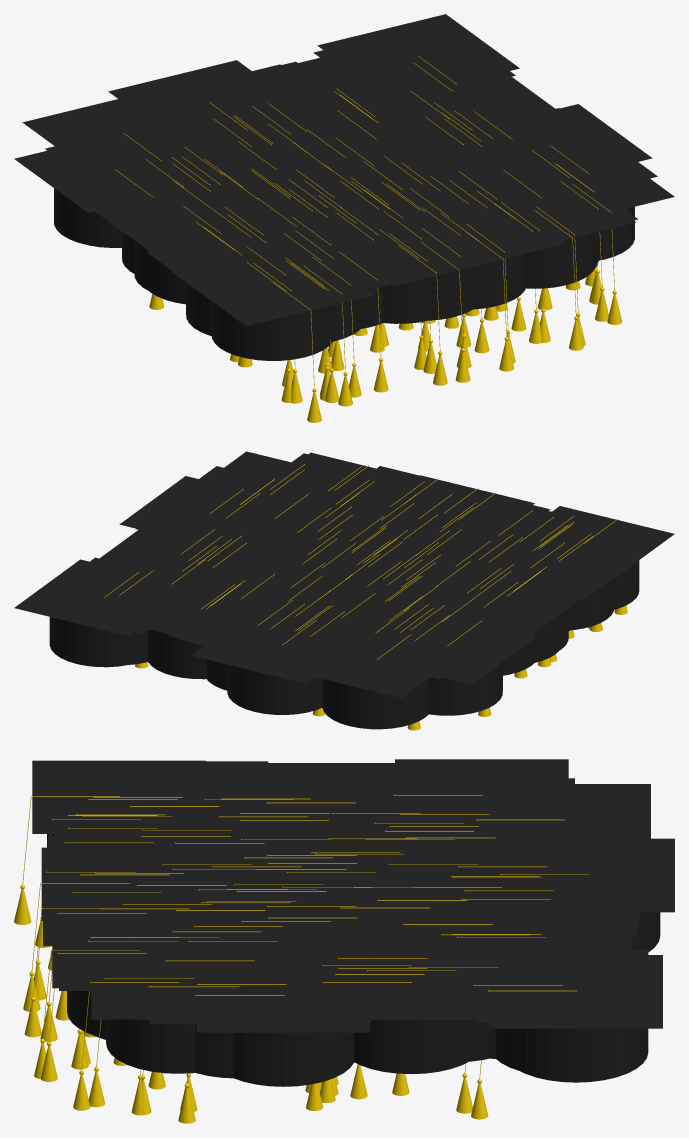
Rendered from GradHat-particlesystem.gltf.
The picture shows the model from 3 angles, top to bottom: view 1: azimuth 30°, elevation 25°; view 2: azimuth 150°, elevation 25°; view 3: azimuth 270°, elevation 25°; orthographic projection. The views are drawn at different scales.
Parts seen in each view (by area): view 1: particle.037, particle.001, particle.070, particle.014, particle.024, particle.060, particle.018, particle.004, particle.005, particle.057, particle.028, particle.036 (+61 smaller); view 2: particle.020, particle.068, particle.024, particle.025, particle.033, particle.028, particle.067, particle.069, particle.059, particle.036, particle.057, particle.084 (+69 smaller); view 3: particle.004, particle.069, particle.005, particle.014, particle.028, particle.018, particle.036, particle.007, particle.024, particle.025, particle.096, particle.070 (+76 smaller).
Part boxes in pixels (<box>): particle.037: <box>365,189,566,371</box>; particle.001: <box>95,180,292,362</box>; particle.070: <box>473,143,674,324</box>; particle.014: <box>152,223,354,403</box>; particle.024: <box>172,241,374,422</box>; particle.060: <box>298,203,499,385</box>; particle.018: <box>241,224,405,406</box>; particle.004: <box>375,69,555,139</box>; particle.005: <box>454,121,656,302</box>; particle.057: <box>14,127,164,309</box>; particle.028: <box>436,181,637,346</box>; particle.036: <box>374,200,522,382</box>; particle.020: <box>192,620,372,716</box>; particle.068: <box>287,634,454,730</box>; particle.024: <box>510,506,674,614</box>; particle.025: <box>180,457,359,533</box>; particle.033: <box>328,482,508,553</box>; particle.028: <box>238,453,417,529</box>; particle.067: <box>29,557,177,664</box>; particle.069: <box>14,559,148,668</box>; particle.059: <box>439,498,571,574</box>; particle.036: <box>356,475,534,545</box>; particle.057: <box>358,620,537,716</box>; particle.084: <box>246,452,424,528</box>; particle.004: <box>306,946,497,1110</box>; particle.069: <box>471,955,662,1119</box>; particle.005: <box>141,950,326,1115</box>; particle.014: <box>88,763,263,836</box>; particle.028: <box>41,917,232,1081</box>; particle.018: <box>35,783,226,947</box>; particle.036: <box>23,847,214,1011</box>; particle.007: <box>178,959,370,1123</box>; particle.024: <box>14,760,205,924</box>; particle.025: <box>88,942,279,1107</box>; particle.096: <box>131,951,323,1115</box>; particle.070: <box>73,947,264,1110</box>.
Size of the model in its own units: 1.12 by 0.2391 by 1.14.
